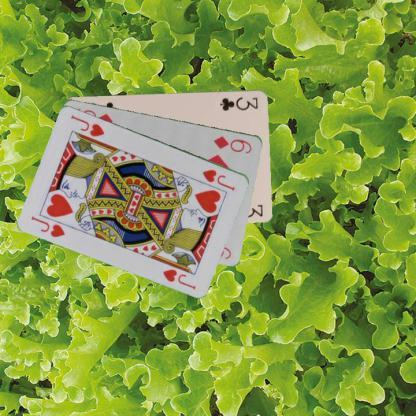3c: (218, 94, 260, 112)
6d: (211, 133, 254, 155)
Jh: (200, 166, 236, 192), (29, 214, 67, 238)
